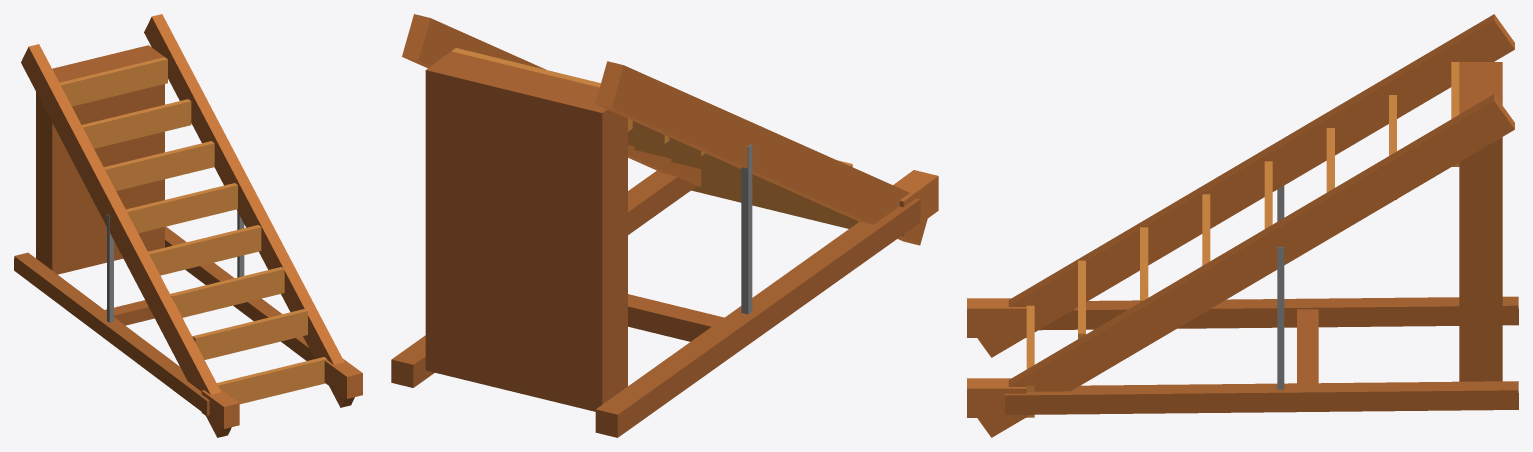
File: wood_step_ladder.obj
3 renders of one model, left to right at view 1: azimuth 30°, elevation 25°; view 2: azimuth 150°, elevation 25°; view 3: azimuth 270°, elevation 25°, orthographic. The views are drawn at different scales.
Parts seen in each view (by area): view 1: base_platform, front_zigzag_side_board_left, front_zigzag_side_board_right, rear_support_leg_left, step_07, step_06, step_05, step_04, step_03, step_02, step_01, top_platform (+5 smaller); view 2: base_platform, front_zigzag_side_board_left, rear_support_leg_left, front_zigzag_side_board_right, rear_support_leg_right, top_platform, rear_middle_cross_beam, side_limit_bar_left, top_high_post_left, step_01; view 3: front_zigzag_side_board_right, front_zigzag_side_board_left, rear_support_leg_right, base_platform, rear_support_leg_left, top_high_post_left, top_high_post_right, rear_middle_cross_beam, side_limit_bar_right, step_06, top_platform, step_05 (+3 smaller).
Boxes of the visible parts, box(x1,y1,x2,y2) form: base_platform: box(36, 45, 164, 274); front_zigzag_side_board_left: box(21, 44, 231, 437); front_zigzag_side_board_right: box(144, 14, 354, 407); rear_support_leg_left: box(14, 252, 209, 415); step_07: box(192, 309, 307, 359); step_06: box(170, 267, 284, 317); step_05: box(148, 225, 261, 275); step_04: box(126, 183, 237, 233); step_03: box(104, 141, 214, 190); step_02: box(81, 99, 191, 148); step_01: box(59, 57, 167, 106); top_platform: box(203, 357, 327, 404); base_platform: box(425, 51, 627, 411); front_zigzag_side_board_left: box(595, 61, 927, 245); rear_support_leg_left: box(595, 198, 920, 437); front_zigzag_side_board_right: box(402, 14, 701, 186); rear_support_leg_right: box(391, 171, 696, 387); top_platform: box(691, 169, 858, 228); rear_middle_cross_beam: box(628, 294, 724, 341); side_limit_bar_left: box(741, 144, 752, 314); top_high_post_left: box(893, 170, 938, 235); step_01: box(451, 48, 632, 131); front_zigzag_side_board_right: box(977, 94, 1514, 437); front_zigzag_side_board_left: box(977, 14, 1514, 357); rear_support_leg_right: box(1004, 381, 1518, 414); base_platform: box(1459, 62, 1502, 381); rear_support_leg_left: box(1039, 296, 1518, 330); top_high_post_left: box(967, 298, 1026, 337); top_high_post_right: box(967, 378, 1026, 417); rear_middle_cross_beam: box(1297, 309, 1318, 383); side_limit_bar_right: box(1277, 247, 1284, 389); step_06: box(1140, 227, 1148, 302); top_platform: box(1026, 305, 1034, 417); step_05: box(1202, 194, 1210, 265).
Bounding box in the file's own units: 0.82 × 1.38 × 2.04.
